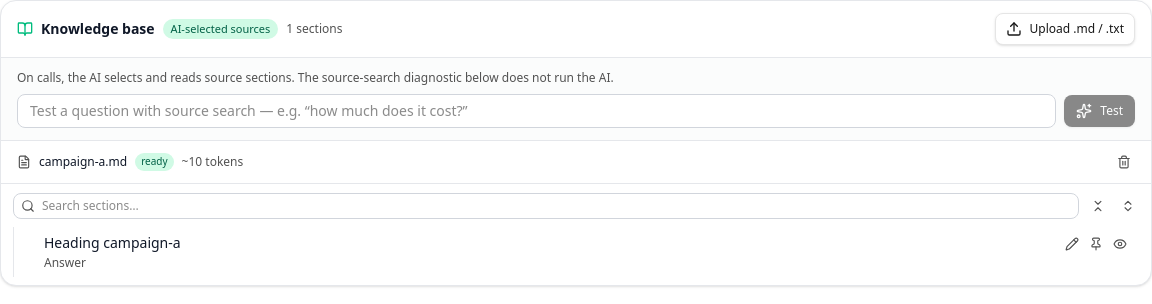
it: request errors stay errors rather than becoming no-match evidence
Check: the text "campaign-a.md" is shown, box [39,154,127,170]
Replace the text in the field with placeholder "Test a question" with "Starter price" at (537, 111), box [17,94,1056,128]
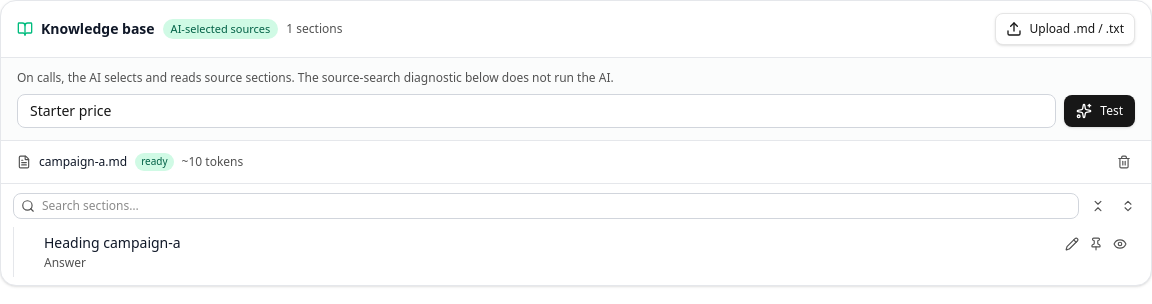
Click the button "Test" at (1100, 111), box [1064,95,1135,127]
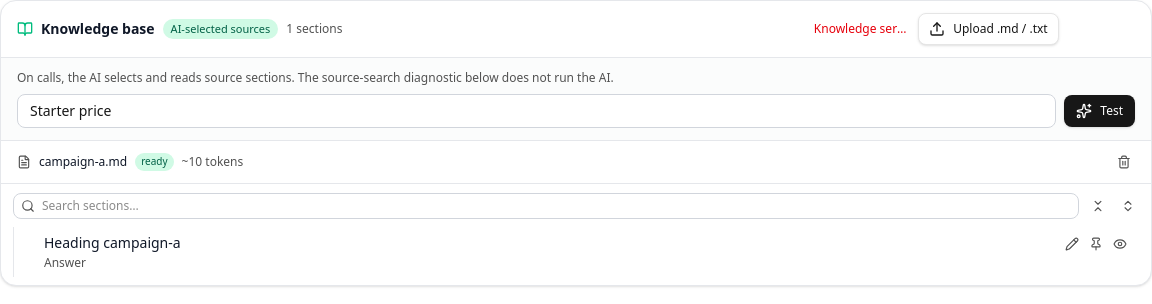
Check: the text "Knowledge service unavailable" is shown, box [814,21,910,37]
